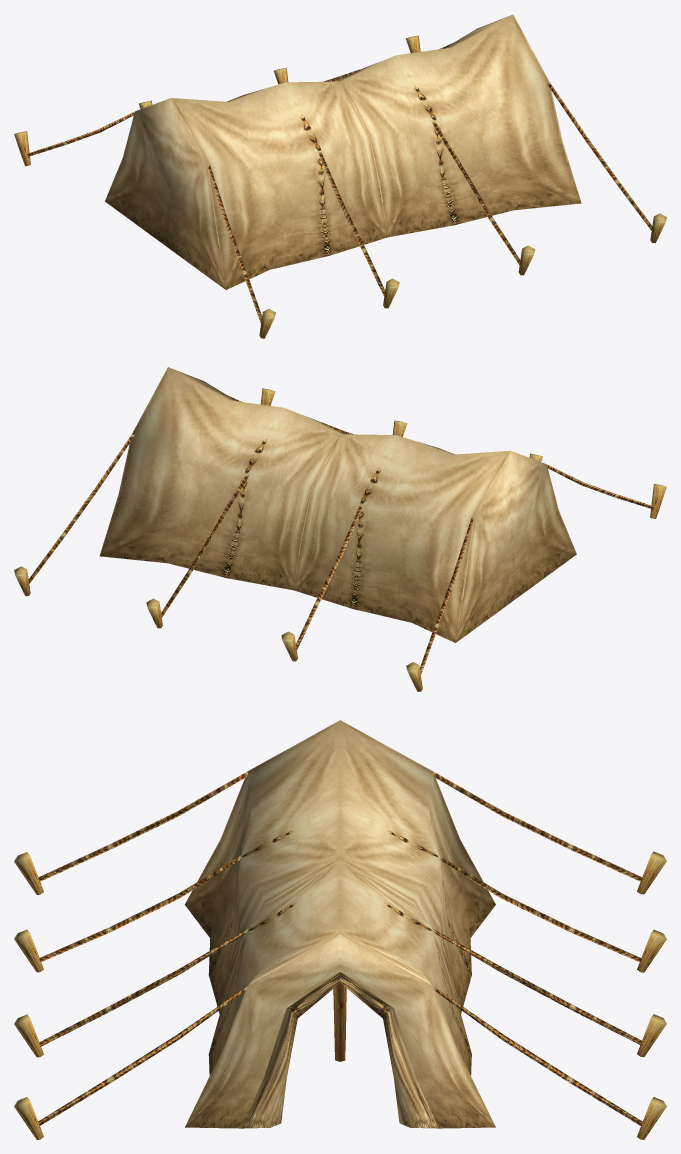
The model's file is humantentlarge.glb.
3 renders of one model, top to bottom at view 1: azimuth 30°, elevation 25°; view 2: azimuth 150°, elevation 25°; view 3: azimuth 270°, elevation 25°, orthographic. The views are drawn at different scales.
Bounding box in the file's own units: 12.14 × 4.26 × 13.26.
2 materials, 2 textured.
